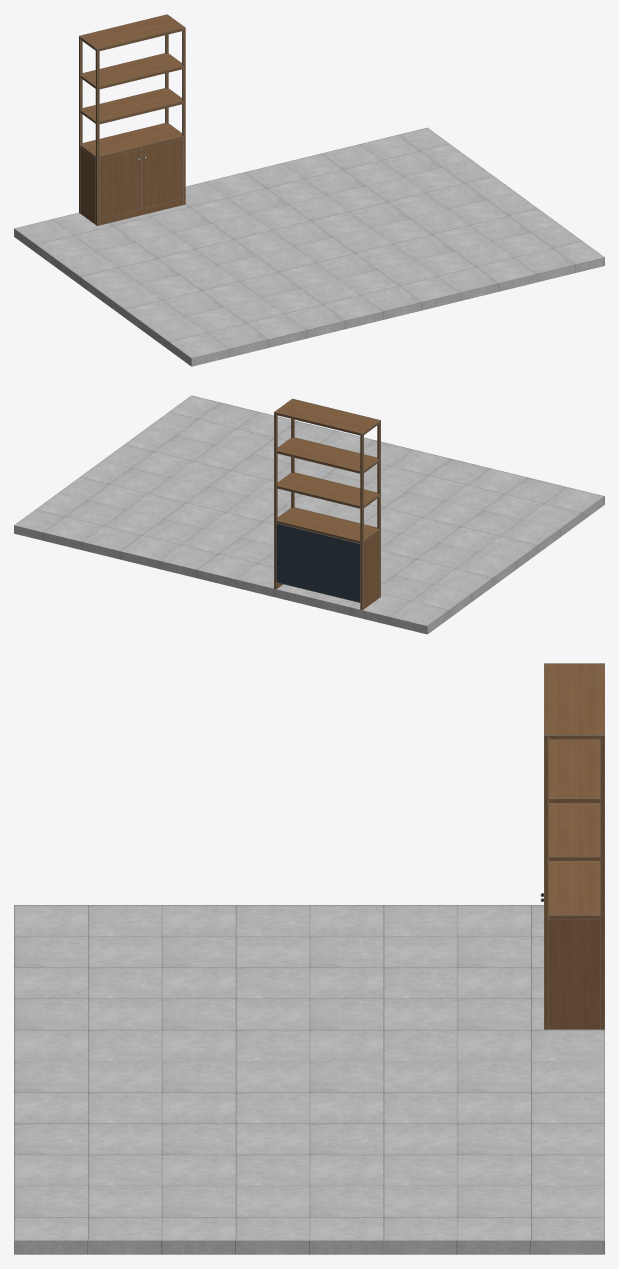
File: modell.glb
3 renders of one model, top to bottom at view 1: azimuth 30°, elevation 25°; view 2: azimuth 150°, elevation 25°; view 3: azimuth 270°, elevation 25°, orthographic. The views are drawn at different scales.
Bounding box in the file's own units: 5383 × 2303 × 4003.
Materials: 9 (6 with a texture image).
